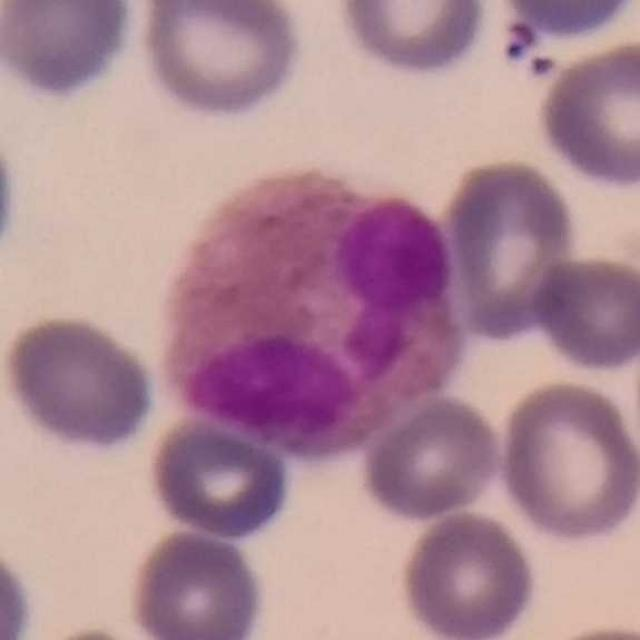Eosinophil: (148, 159, 462, 459)
Platelets: (526, 54, 559, 82)
RBC: (440, 154, 581, 340), (494, 376, 640, 548), (0, 310, 163, 458), (181, 327, 363, 452), (133, 0, 308, 122), (145, 412, 298, 544), (395, 507, 541, 640), (358, 392, 507, 522), (533, 36, 640, 192), (125, 526, 268, 640), (329, 193, 458, 315), (0, 0, 140, 104), (527, 249, 640, 372), (333, 0, 494, 81), (488, 0, 640, 42), (0, 543, 37, 640), (0, 119, 22, 273)
